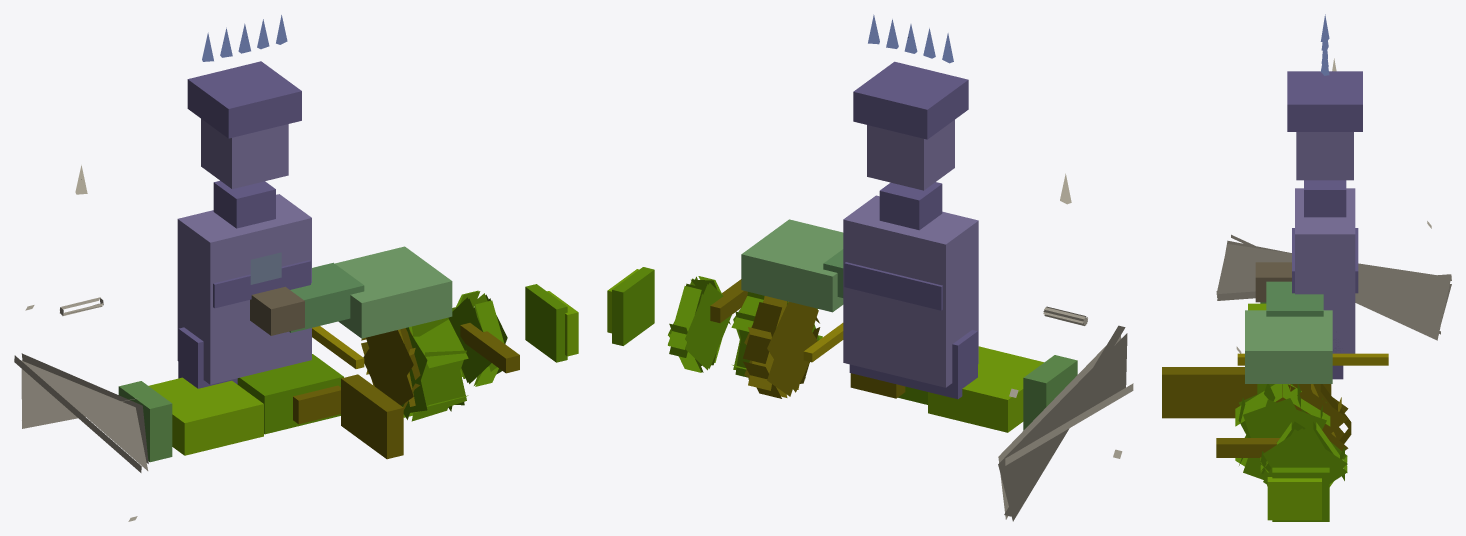
The model's file is uesugi-02.glb.
3 renders of one model, left to right at view 1: azimuth 30°, elevation 25°; view 2: azimuth 150°, elevation 25°; view 3: azimuth 270°, elevation 25°, orthographic. The views are drawn at different scales.
Parts seen in each view (by area): view 1: samurai; view 2: samurai; view 3: samurai.
Boxes of the visible parts, x1,y1,x2,y2 form: samurai: [14, 15, 578, 521]; samurai: [607, 14, 1133, 521]; samurai: [1162, 14, 1451, 521].
Size of the model in its own units: 1.7 by 1.44 by 0.9598.
